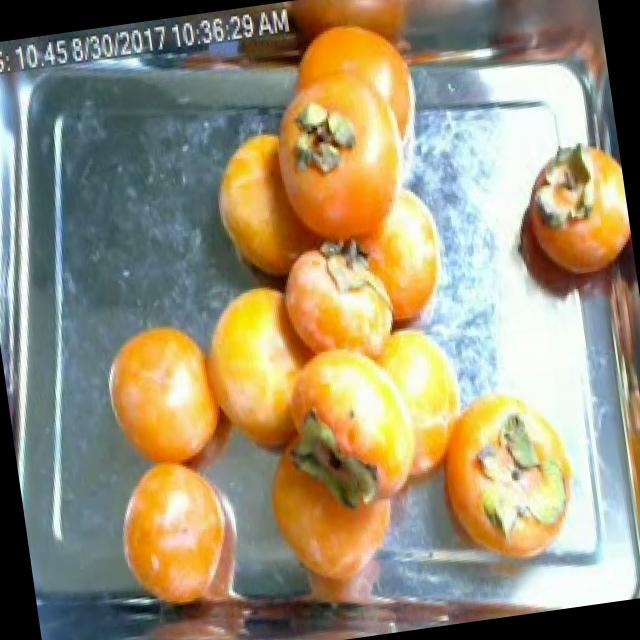Fruit: (194, 105, 363, 302), (100, 440, 270, 630), (88, 305, 236, 489)
